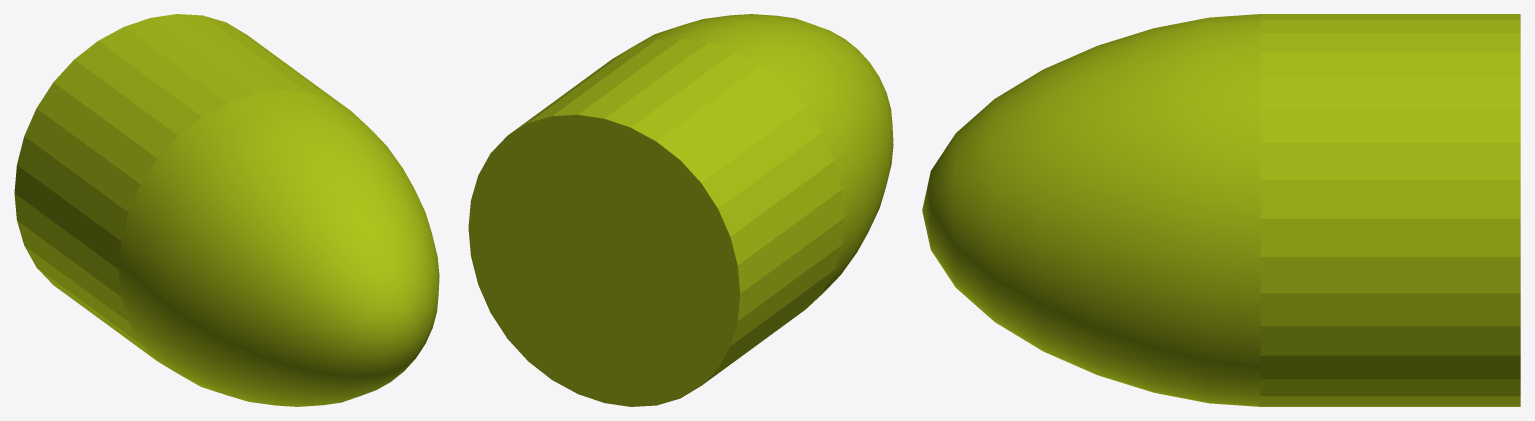
Rendered from Bullet.fbx.
3 views of the same model, side by side, from view 1: azimuth 30°, elevation 25°; view 2: azimuth 150°, elevation 25°; view 3: azimuth 270°, elevation 25° (orthographic). The views are drawn at different scales.
Parts seen in each view (by area): view 1: Sphere001; view 2: Sphere001; view 3: Sphere001.
Boxes of the visible parts, x1,y1,x2,y2 form: Sphere001: [14, 14, 439, 406]; Sphere001: [468, 14, 893, 406]; Sphere001: [922, 14, 1520, 406].
Bounding box in the file's own units: 108 × 108 × 165.
